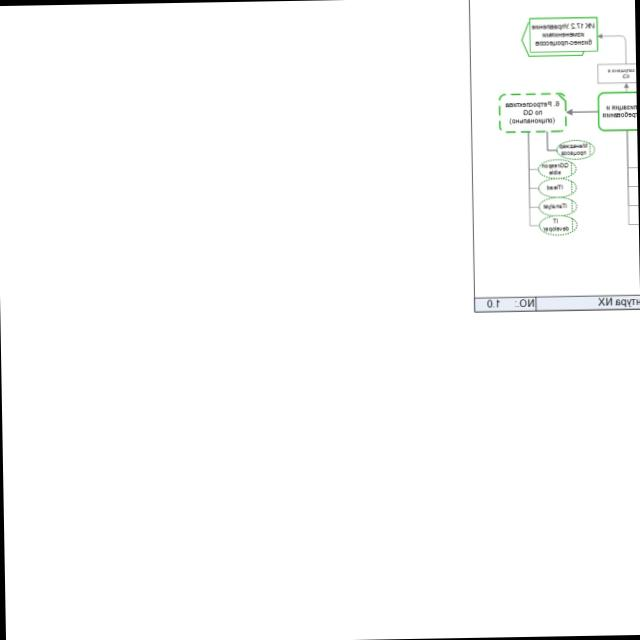arrow: (598, 31, 628, 65), (567, 107, 599, 116), (622, 82, 631, 92)
rectangle: (498, 92, 567, 134), (529, 15, 599, 53)
